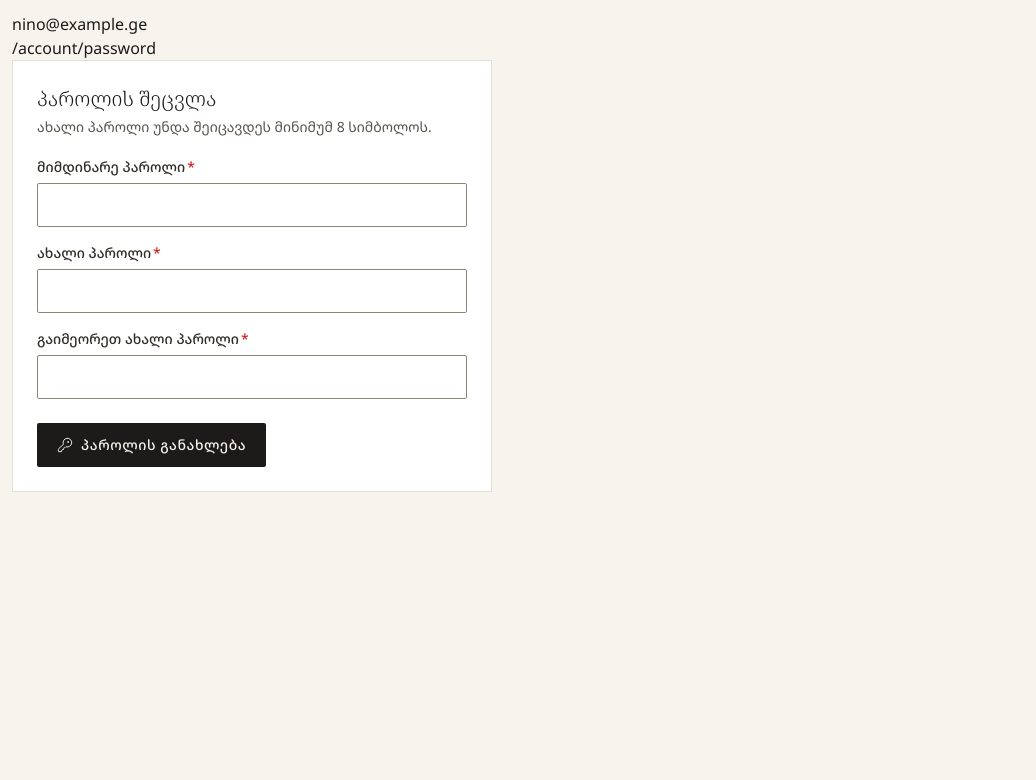
Test: a successful password change › drops the session and the signed-in state and goes to login with the reason
Check: the text with test id "user" reads "nino@example.ge", box [12, 13, 147, 35]
Type "OldPass123" into the password field labelled "მიმდინარე პაროლი".
click(252, 205); type("OldPass123")  # box [37, 183, 467, 227]
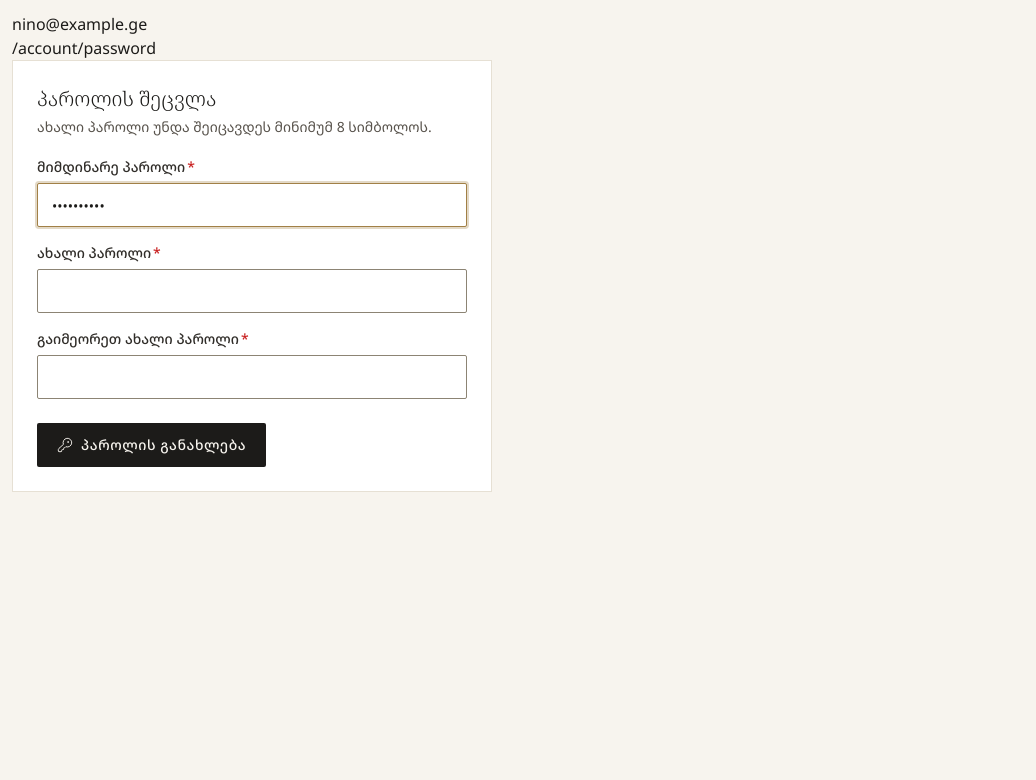
Type "NewPass456" into the password field labelled "ახალი პაროლი*".
click(252, 291); type("NewPass456")  # box [37, 269, 467, 313]
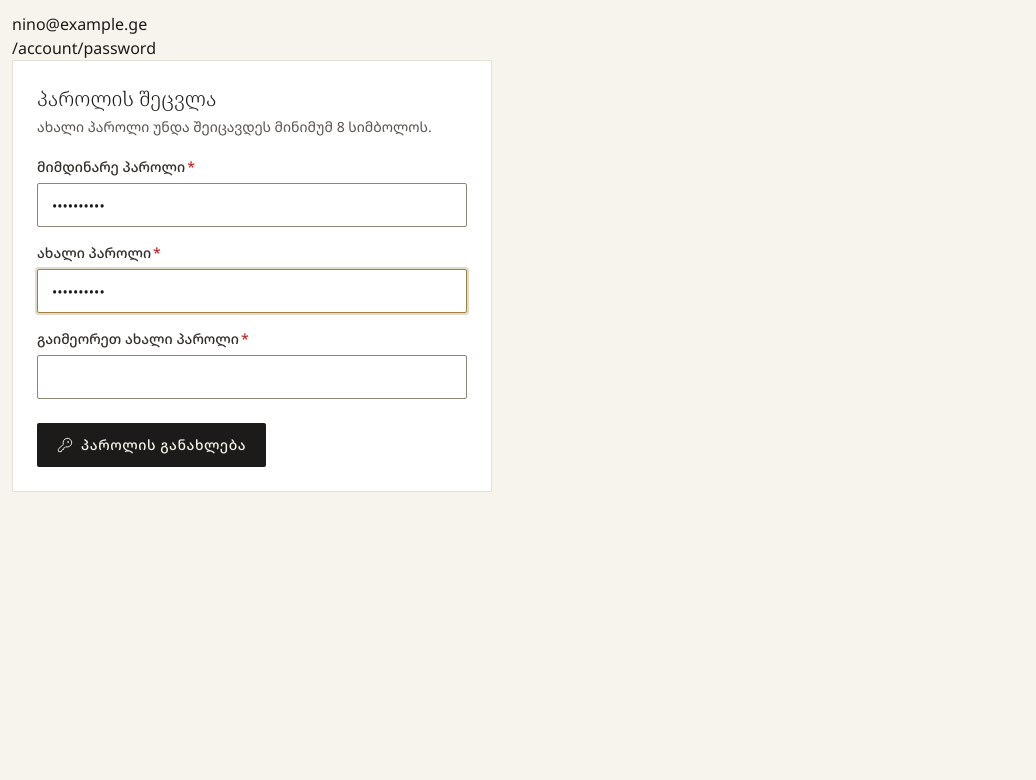
Type "NewPass456" into the password field labelled "გაიმეორეთ ახალი პაროლი".
click(252, 377); type("NewPass456")  # box [37, 355, 467, 399]
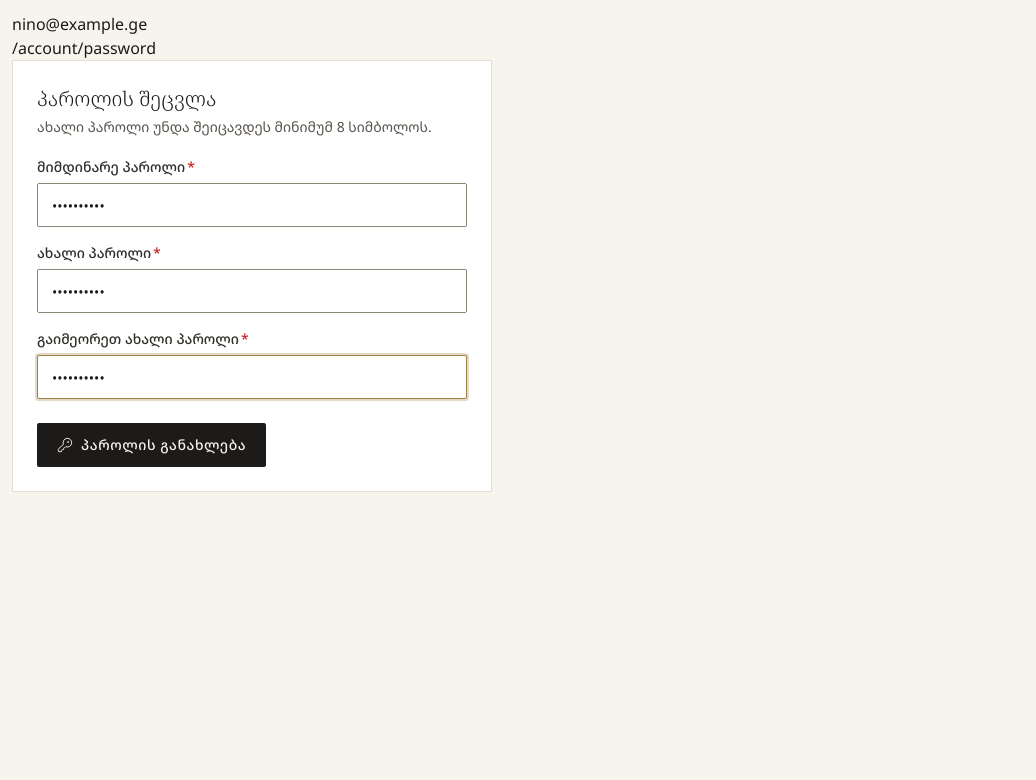
Click the button "პაროლის განახლება".
click(152, 445)  # box [37, 423, 266, 467]
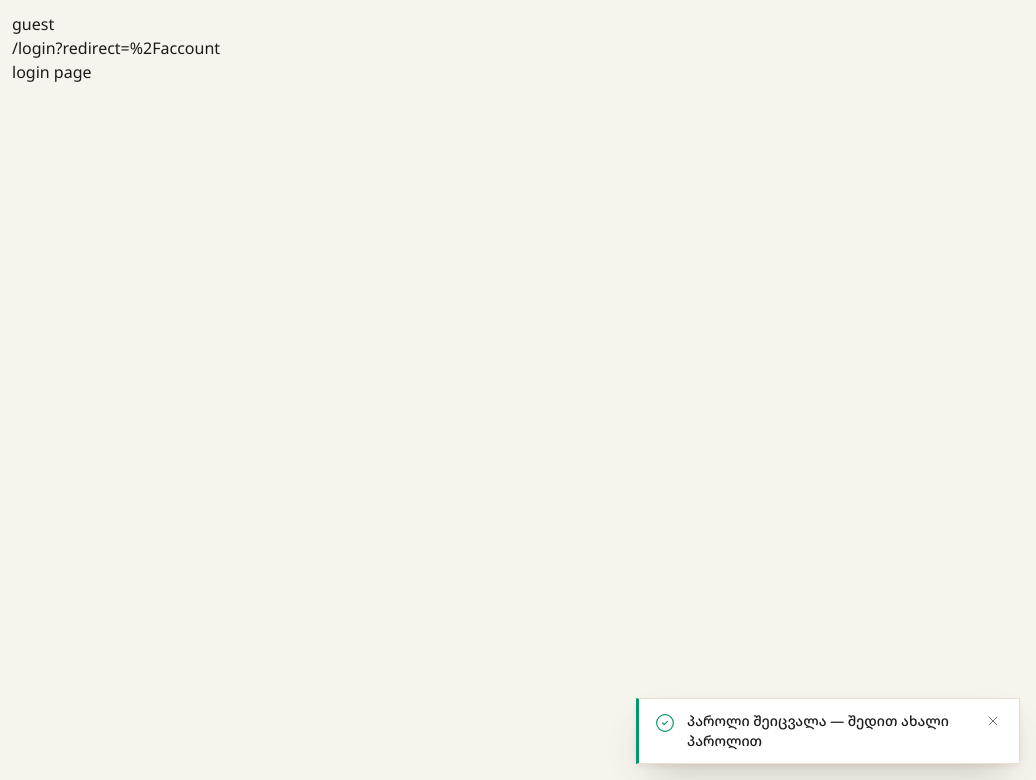
Check: the text "login page" is shown, box [12, 61, 92, 83]
Check: the text with test id "user" reads "guest", box [12, 13, 54, 35]
Check: the text "პაროლი შეიცვალა — შედით ახალი პაროლით" is shown, box [687, 711, 967, 751]
